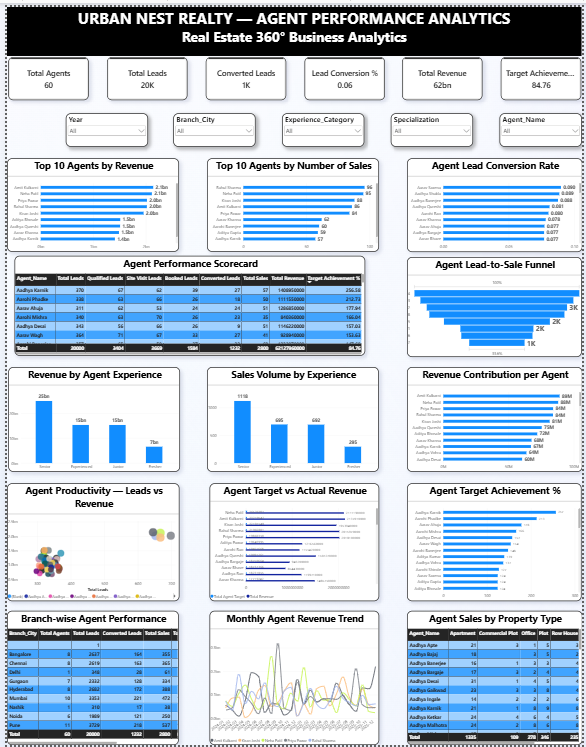

This screenshot's page, from the dashboard's own definition file:
{"tool":"powerbi","page":{"name":"AGENT_PERFORMANCE_ANALYTICS","canvas":[2000,2570],"ordinal":4},"visuals":[{"type":"cardVisual","fields":{"Data":["_Agent_Measures.Total Agents"]},"box":[4.9,175.3,280,150],"z":0},{"type":"cardVisual","fields":{"Data":["_Agent_Target_Measures.Target Achievement %"]},"box":[1718.3,175,280,150],"z":1000},{"type":"cardVisual","fields":{"Data":["_Lead_Measures.Total Leads"]},"box":[347.6,175.3,280,150],"z":2000},{"type":"cardVisual","fields":{"Data":["_Lead_Measures.Converted Leads"]},"box":[690.3,175.3,280,150],"z":3000},{"type":"cardVisual","title":"Sell Through %","fields":{"Data":["_Sales_Measures.Total Revenue"]},"box":[1375.7,175.3,280,150],"z":4000},{"type":"cardVisual","fields":{"Data":["_Lead_Measures.Lead Conversion %"]},"box":[1033,175.3,280,150],"z":5000},{"type":"clusteredBarChart","title":"Top 10 Agents by Revenue","fields":{"Category":["Dim_Agent.Agent_Name"],"Y":["_Sales_Measures.Total Revenue"]},"box":[0,527.1,598.6,325.7],"z":6000},{"type":"clusteredBarChart","title":"Top 10 Agents by Number of Sales","fields":{"Category":["Dim_Agent.Agent_Name"],"Y":["_Sales_Measures.Total Sales"]},"box":[695,527.1,598.6,325.7],"z":7000},{"type":"clusteredColumnChart","title":"Sales Volume by Experience","fields":{"Category":["Dim_Agent.Experience_Category"],"Y":["_Sales_Measures.Total Sales"]},"box":[697.5,1252.5,597.5,365],"z":8000},{"type":"funnel","title":"Agent Lead-to-Sale Funnel","fields":{"Category":["Fact_Leads.Lead_Stage_Order"],"Y":["_Lead_Measures.Total Leads"]},"box":[1390,868,608,348],"z":9000},{"type":"clusteredBarChart","title":"Agent Lead Conversion Rate","fields":{"Category":["Dim_Agent.Agent_Name"],"Y":["_Lead_Measures.Lead Conversion %"]},"box":[1390,528,610,326],"z":10000},{"type":"clusteredColumnChart","title":"Revenue by Agent Experience","fields":{"Category":["Dim_Agent.Experience_Category"],"Y":["_Sales_Measures.Total Revenue"]},"box":[2.5,1252.5,597.5,365],"z":11000},{"type":"pivotTable","title":"Agent Performance Scorecard","fields":{"Rows":["Dim_Agent.Agent_Name"],"Values":["_Lead_Measures.Total Leads","_Lead_Measures.Qualified Leads","_Lead_Measures.Site Visit Leads","_Lead_Measures.Booked Leads","_Lead_Measures.Converted Leads","_Sales_Measures.Total Sales","_Sales_Measures.Total Revenue","_Agent_Target_Measures.Target Achievement %"]},"box":[25,865,1220,348.3],"z":12000},{"type":"barChart","title":"Revenue Contribution per Agent","fields":{"Category":["Dim_Agent.Agent_Name"],"Y":["_Time_Intelligence.Average Monthly Revenue"]},"box":[1390,1252.5,610,365],"z":13000},{"type":"slicer","fields":{"Values":["Dim_Date.Year"]},"box":[202.9,368.6,286.7,116.7],"z":14000},{"type":"slicer","fields":{"Values":["Dim_Agent.Specialization"]},"box":[1335.4,368.6,286.7,116.7],"z":15000},{"type":"slicer","fields":{"Values":["Dim_Agent.Experience_Category"]},"box":[957.9,368.6,286.7,116.7],"z":16000},{"type":"slicer","fields":{"Values":["Dim_Agent.Branch_City"]},"box":[580.4,368.6,286.7,116.7],"z":17000},{"type":"slicer","fields":{"Values":["Dim_Agent.Agent_Name"]},"box":[1712.9,368.6,286.7,116.7],"z":18000},{"type":"textbox","box":[6,20,280,150],"z":19000},{"type":"textbox","box":[0,0,1998,170],"z":20000},{"type":"pivotTable","title":"Agent Sales by Property Type","fields":{"Columns":["Dim_Property.Property_Type"],"Rows":["Dim_Agent.Agent_Name"],"Values":["_Sales_Measures.Total Sales"]},"box":[1390,2101.7,610,467.5],"z":22000},{"type":"scatterChart","title":"Agent Productivity — Leads vs Revenue","fields":{"Series":["Dim_Agent.Agent_Name"],"Size":["_Sales_Measures.Total Sales"],"X":["_Lead_Measures.Total Leads"],"Y":["_Sales_Measures.Total Revenue"]},"box":[0,1655,600,410],"z":24000},{"type":"clusteredBarChart","title":"Agent Target vs Actual Revenue","fields":{"Category":["Dim_Agent.Agent_Name"],"Y":["_Agent_Target_Measures.Total Agent Target","_Sales_Measures.Total Revenue"]},"box":[702.5,1655,590,410],"z":25000},{"type":"barChart","title":"Agent Target Achievement %","fields":{"Category":["Dim_Agent.Agent_Name"],"Y":["_Agent_Target_Measures.Target Achievement %"]},"box":[1392,1656,607.5,410],"z":26000},{"type":"pivotTable","title":"Branch-wise Agent Performance","fields":{"Rows":["Dim_Agent.Branch_City"],"Values":["_Agent_Measures.Total Agents","_Lead_Measures.Total Leads","_Lead_Measures.Converted Leads","_Sales_Measures.Total Sales","_Sales_Measures.Total Revenue","_Lead_Measures.Lead Conversion %"]},"box":[0,2101.7,597.5,467.5],"z":27000},{"type":"lineChart","title":"Monthly Agent Revenue Trend","fields":{"Category":["Dim_Date.Year_Month"],"Series":["Dim_Agent.Agent_Name"],"Y":["_Sales_Measures.Total Revenue"]},"box":[705,2101.7,590,467.5],"z":27001}]}

Visuals, with their boxes in screenshot pixels (x1, y1, x2, y2), scaled from the page's 2000x2570 canvas onto the 586x747 screenshot:
cardVisual - _Agent_Measures.Total Agents: l=1, t=51, r=83, b=95
cardVisual - _Agent_Target_Measures.Target Achievement %: l=503, t=51, r=585, b=94
cardVisual - _Lead_Measures.Total Leads: l=102, t=51, r=184, b=95
cardVisual - _Lead_Measures.Converted Leads: l=202, t=51, r=284, b=95
"Sell Through %" cardVisual: l=403, t=51, r=485, b=95
cardVisual - _Lead_Measures.Lead Conversion %: l=303, t=51, r=385, b=95
"Top 10 Agents by Revenue" clusteredBarChart: l=0, t=153, r=175, b=248
"Top 10 Agents by Number of Sales" clusteredBarChart: l=204, t=153, r=379, b=248
"Sales Volume by Experience" clusteredColumnChart: l=204, t=364, r=379, b=470
"Agent Lead-to-Sale Funnel" funnel: l=407, t=252, r=585, b=353
"Agent Lead Conversion Rate" clusteredBarChart: l=407, t=153, r=585, b=248
"Revenue by Agent Experience" clusteredColumnChart: l=1, t=364, r=176, b=470
"Agent Performance Scorecard" pivotTable: l=7, t=251, r=365, b=353
"Revenue Contribution per Agent" barChart: l=407, t=364, r=585, b=470
slicer - Dim_Date.Year: l=59, t=107, r=143, b=141
slicer - Dim_Agent.Specialization: l=391, t=107, r=475, b=141
slicer - Dim_Agent.Experience_Category: l=281, t=107, r=365, b=141
slicer - Dim_Agent.Branch_City: l=170, t=107, r=254, b=141
slicer - Dim_Agent.Agent_Name: l=502, t=107, r=585, b=141
textbox: l=2, t=6, r=84, b=49
textbox: l=0, t=0, r=585, b=49
"Agent Sales by Property Type" pivotTable: l=407, t=611, r=585, b=746
"Agent Productivity — Leads vs Revenue" scatterChart: l=0, t=481, r=176, b=600
"Agent Target vs Actual Revenue" clusteredBarChart: l=206, t=481, r=379, b=600
"Agent Target Achievement %" barChart: l=408, t=481, r=585, b=601
"Branch-wise Agent Performance" pivotTable: l=0, t=611, r=175, b=746
"Monthly Agent Revenue Trend" lineChart: l=207, t=611, r=379, b=746
